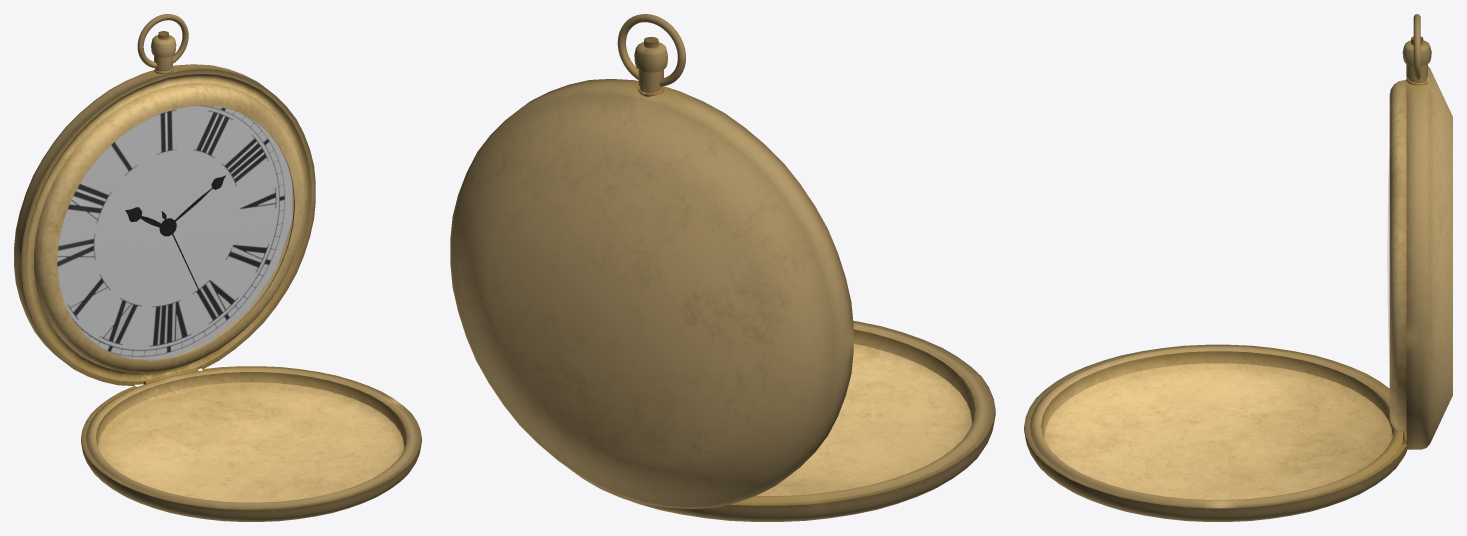
Rendered from pocket_watch.glb.
3 renders of one model, left to right at view 1: azimuth 30°, elevation 25°; view 2: azimuth 150°, elevation 25°; view 3: azimuth 270°, elevation 25°, orthographic. The views are drawn at different scales.
Visible parts, largest first — view 1: Watch bottom, Watch top, hands; view 2: Watch bottom, Watch top; view 3: Watch top, Watch bottom.
Part boxes in pixels (box(x1,y1,x2,y2)): Watch bottom: box(14, 14, 315, 385); Watch top: box(81, 366, 421, 521); hands: box(125, 175, 225, 290); Watch bottom: box(450, 14, 853, 508); Watch top: box(571, 321, 995, 521); Watch top: box(1024, 344, 1407, 521); Watch bottom: box(1387, 14, 1452, 449).
Size of the model in its own units: 0.9782 by 1.24 by 1.08.
Materials: 1 (1 with a texture image).
